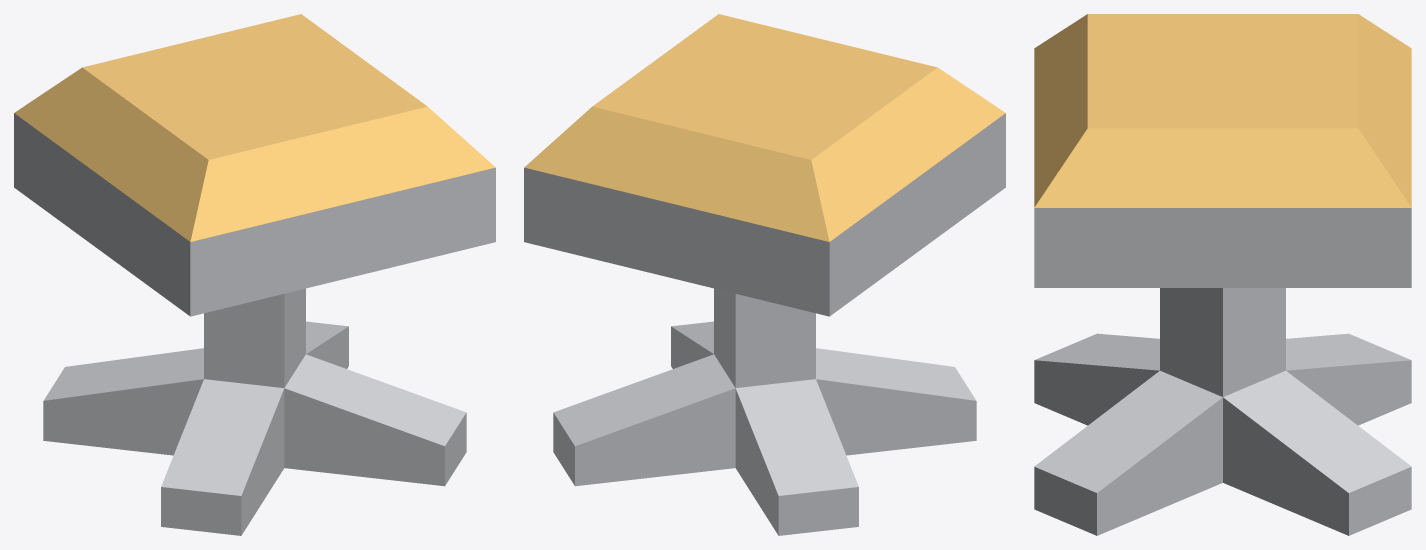
The model's file is desk_chairStool.glb.
The picture shows the model from 3 angles, left to right: view 1: azimuth 30°, elevation 25°; view 2: azimuth 150°, elevation 25°; view 3: azimuth 270°, elevation 25°; orthographic projection. The views are drawn at different scales.
Parts seen in each view (by area): view 1: desk_chairStool; view 2: desk_chairStool; view 3: desk_chairStool.
Boxes of the visible parts, x1,y1,x2,y2 form: desk_chairStool: [14, 14, 495, 535]; desk_chairStool: [524, 14, 1005, 535]; desk_chairStool: [1034, 14, 1411, 535].
Size of the model in its own units: 0.15 by 0.1687 by 0.15.
